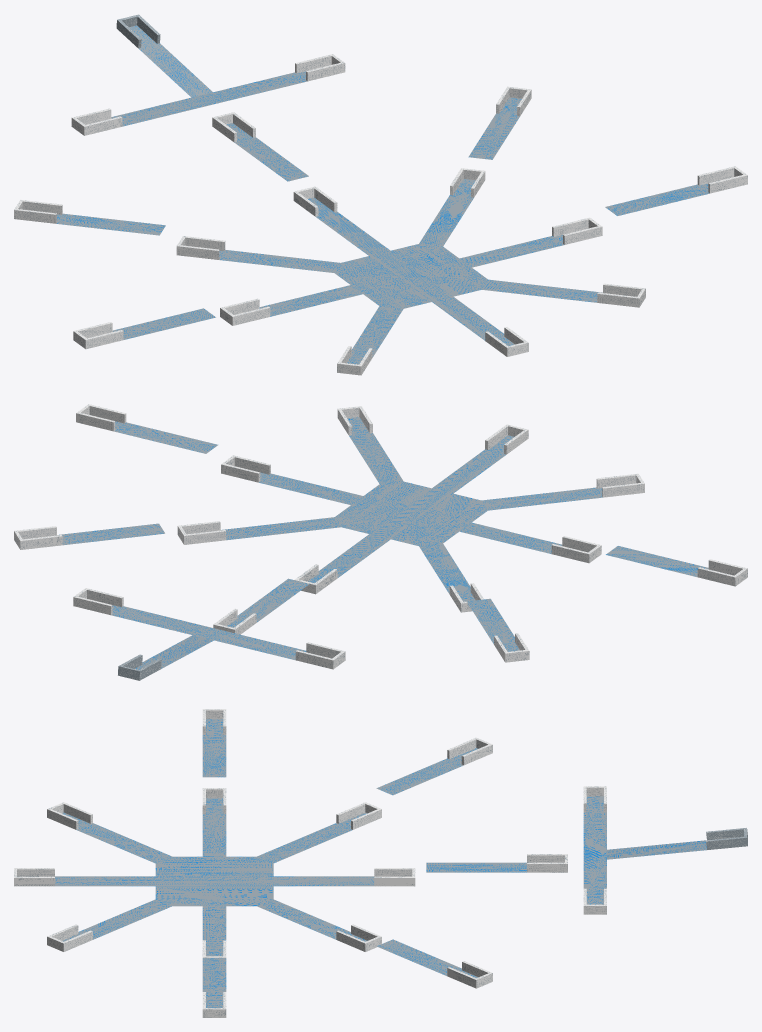
File: RLevel 5.fbx
3 views of the same model, one above another, from view 1: azimuth 30°, elevation 25°; view 2: azimuth 150°, elevation 25°; view 3: azimuth 270°, elevation 25° (orthographic). The views are drawn at different scales.
Visible parts, largest first — view 1: Model; view 2: Model; view 3: Model.
Boxes of the visible parts, x1=… form: Model: x1=14, y1=14, x2=747, y2=375; Model: x1=14, y1=404, x2=747, y2=680; Model: x1=14, y1=709, x2=747, y2=1017.
Size of the model in its own units: 609 by 45.5 by 622.
